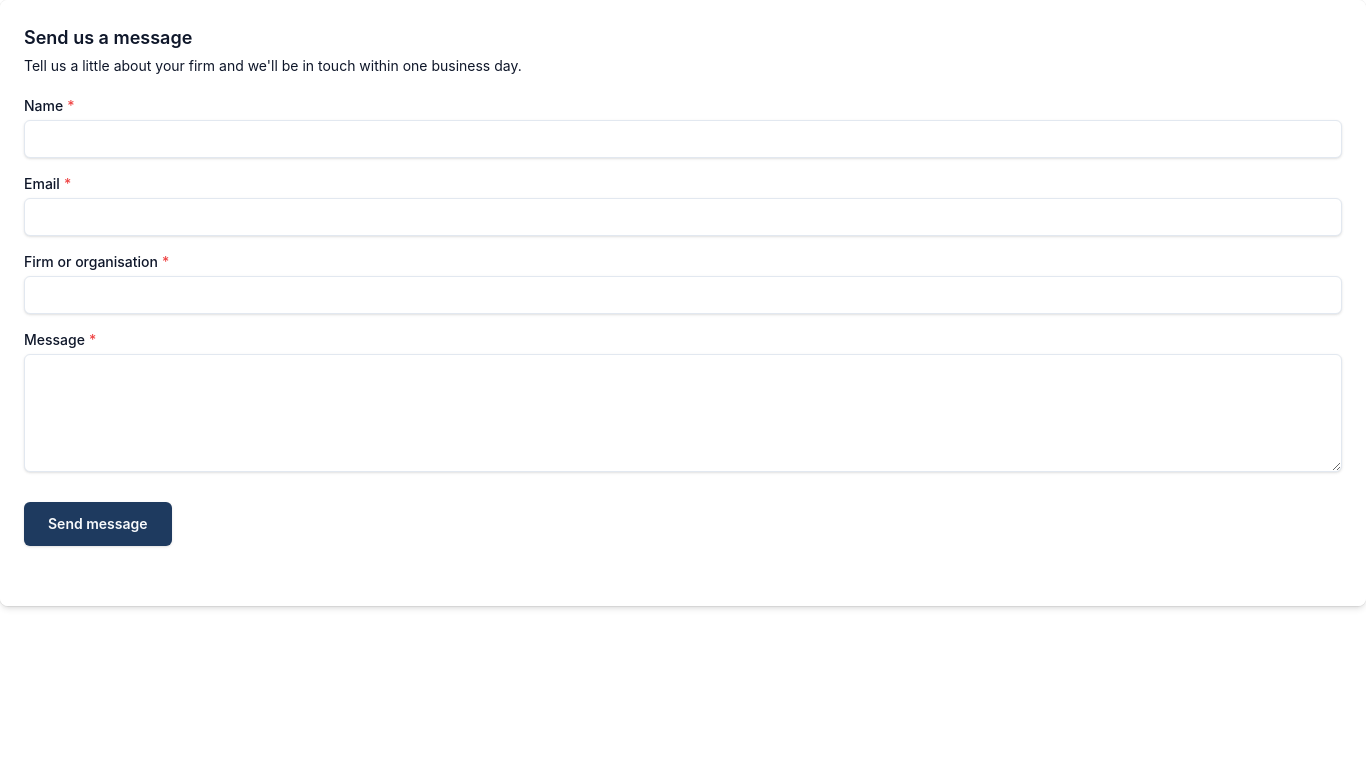
Test: ContactForm — submit paths › displays server-side field errors when the route returns 400
The width and height of the screenshot is (1366, 768).
Type "Jane Doe" into the field labelled "Name*".
click(683, 139); type("Jane Doe")  # box [24,120,1342,158]
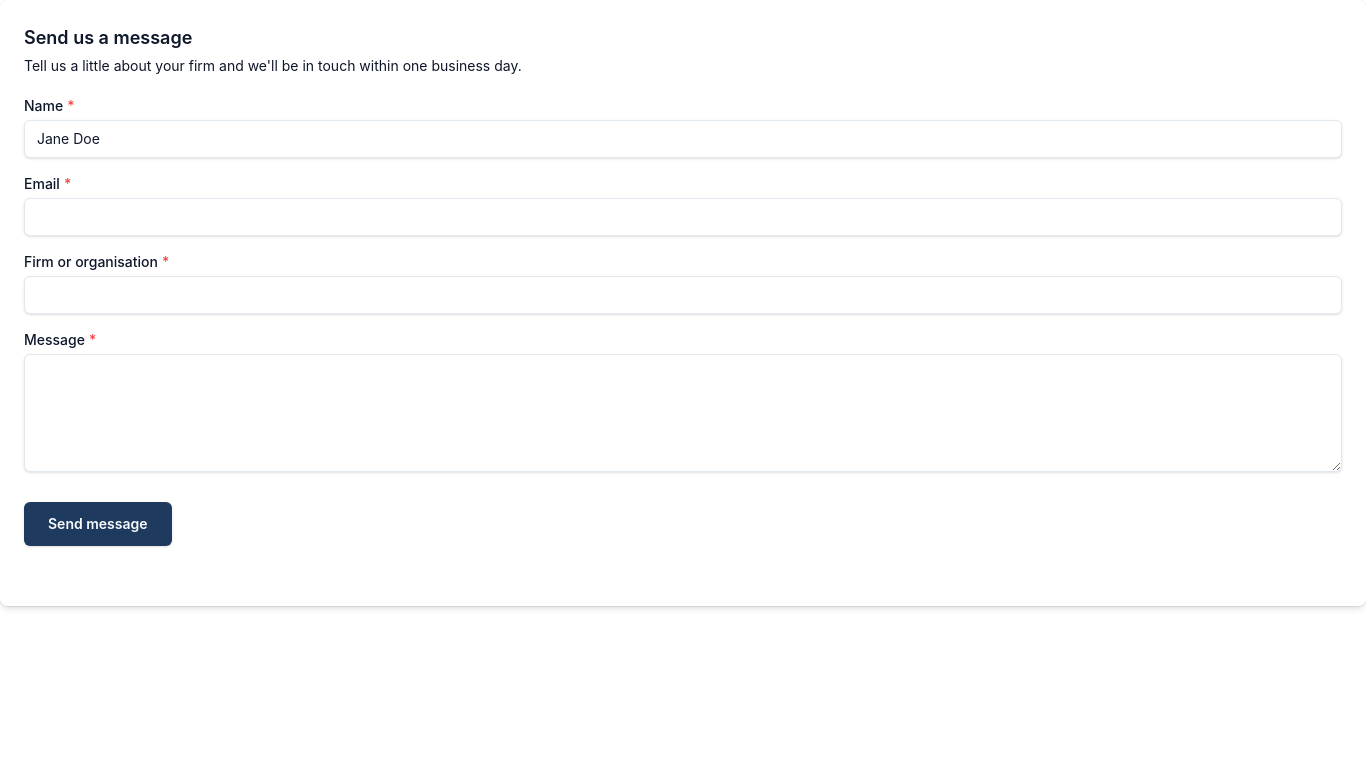
Type "jane@example.com" into the field labelled "Email*".
click(683, 217); type("jane@example.com")  # box [24,198,1342,236]
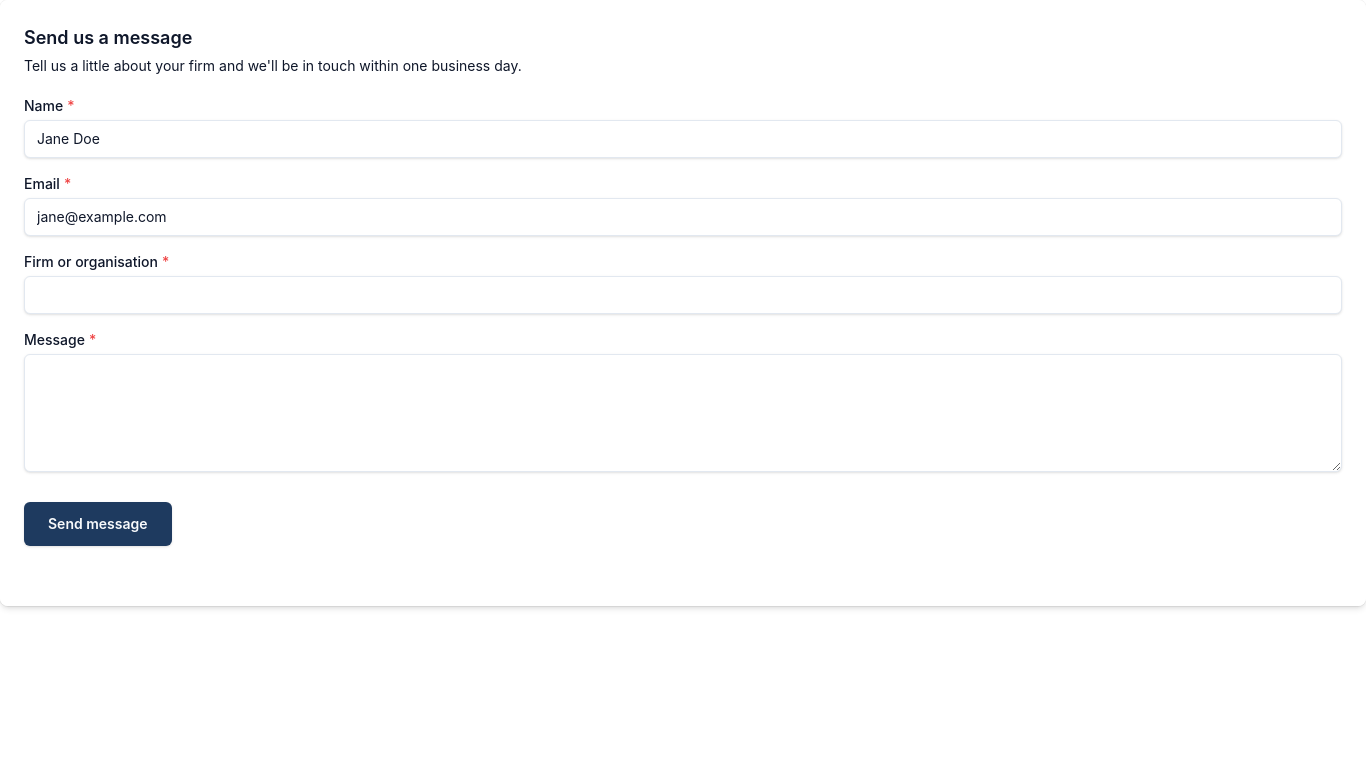
Type "Doe & Co Solicitors" into the field labelled "Firm or organisation*".
click(683, 295); type("Doe & Co Solicitors")  # box [24,276,1342,314]
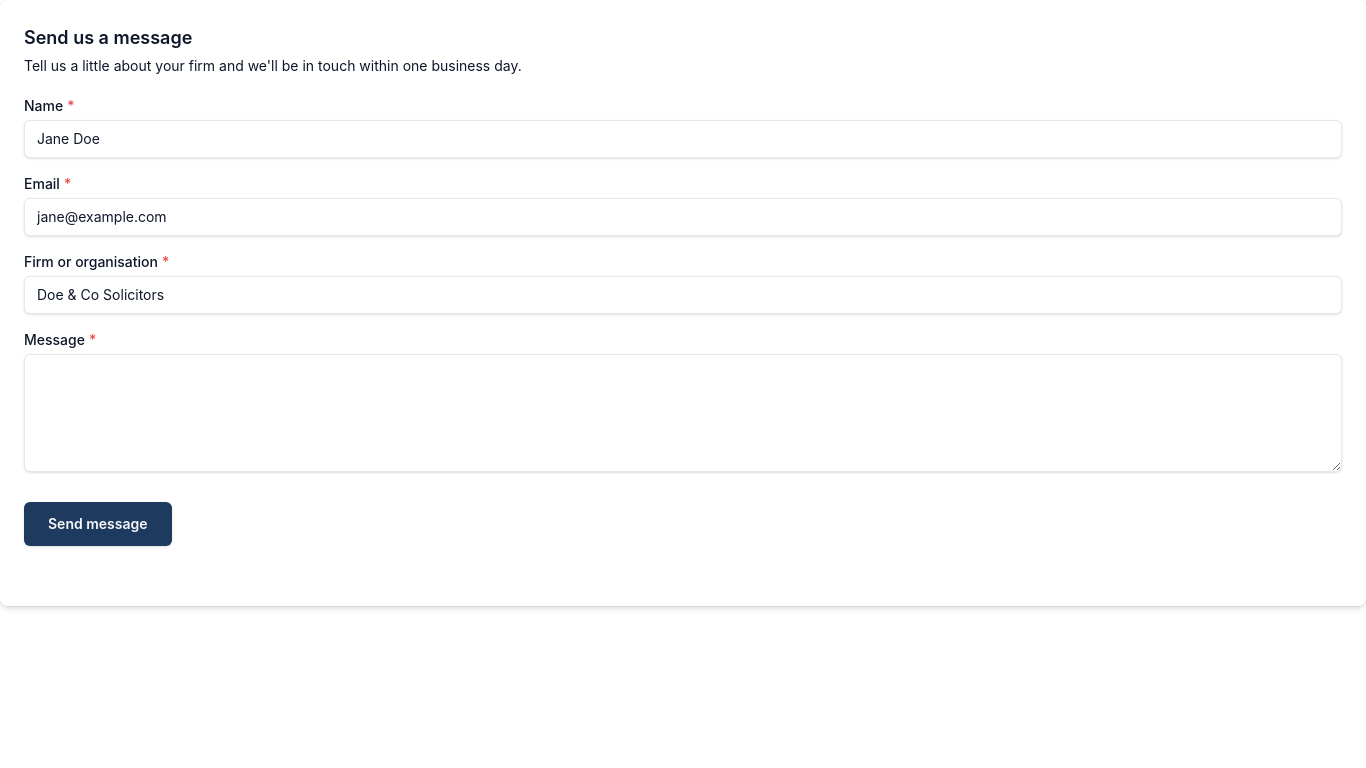
Type "We'd like a demo of CaseSift for our small firm." into the text box labelled "Message*".
click(683, 413); type("We'd like a demo of CaseSift for our small firm.")  # box [24,354,1342,472]
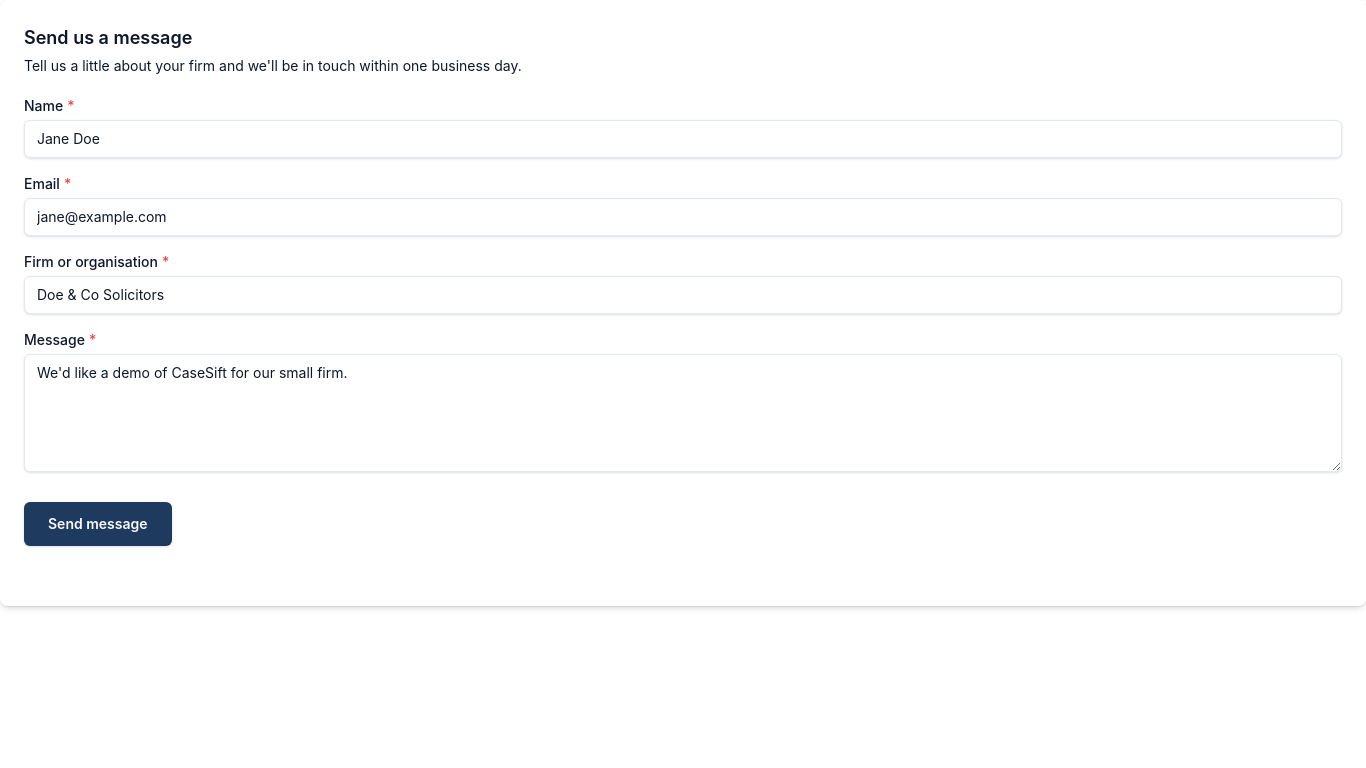
Submit the form named "send message"
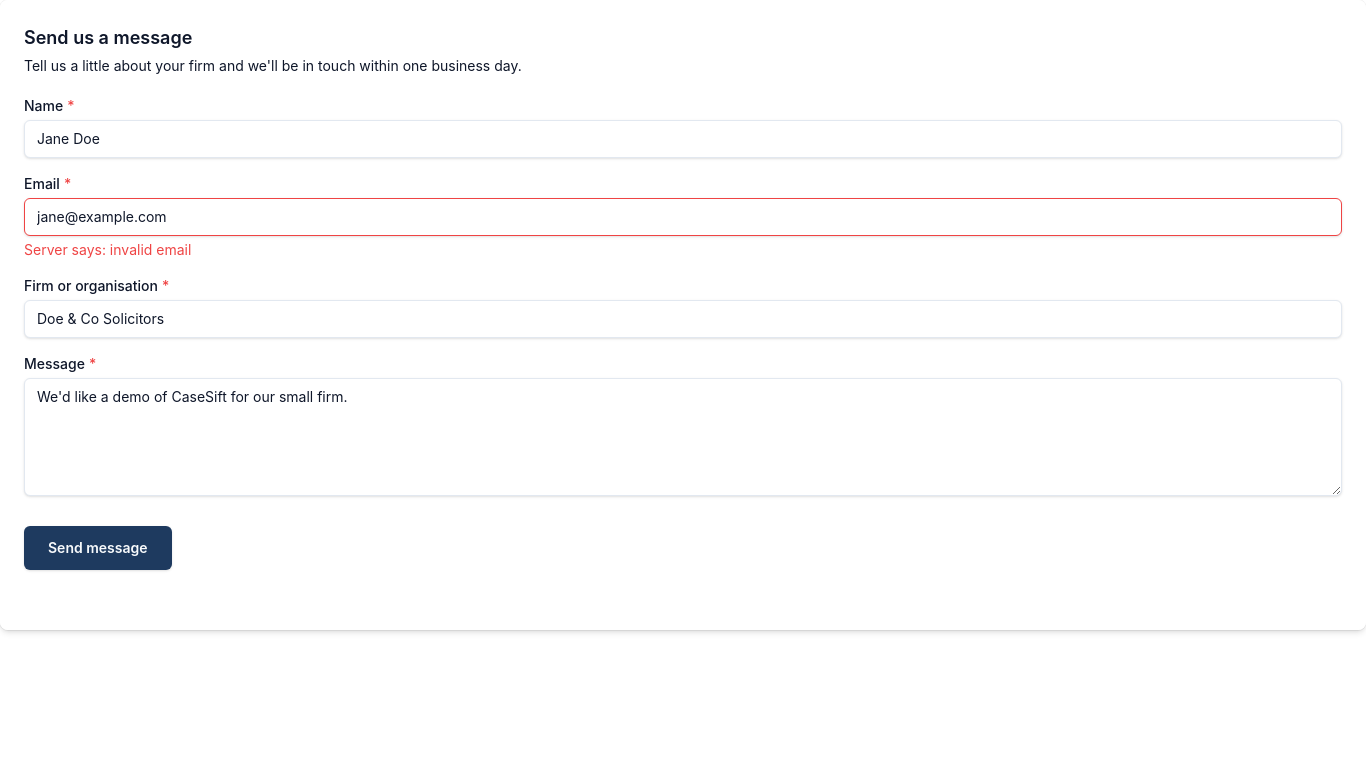
Now the text "Server says: invalid email" is shown, box [24,241,191,258]
